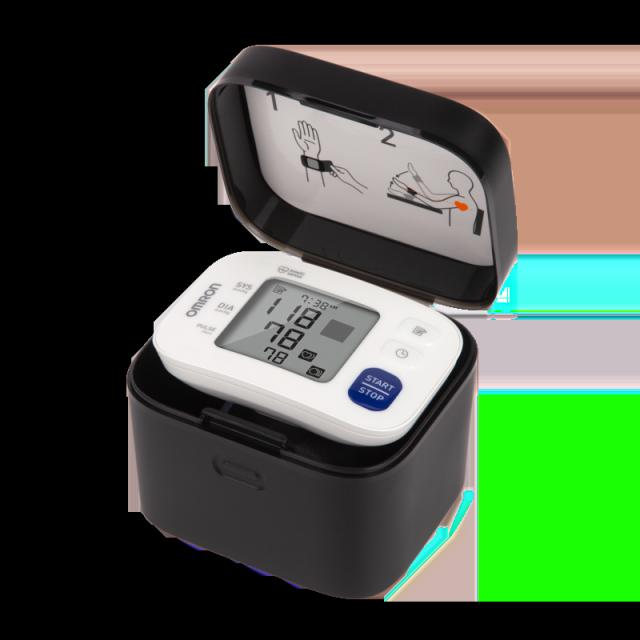dia: (250, 311, 310, 358)
pul: (250, 336, 295, 372)
ssd: (213, 265, 380, 397)
sys: (255, 288, 329, 335)
